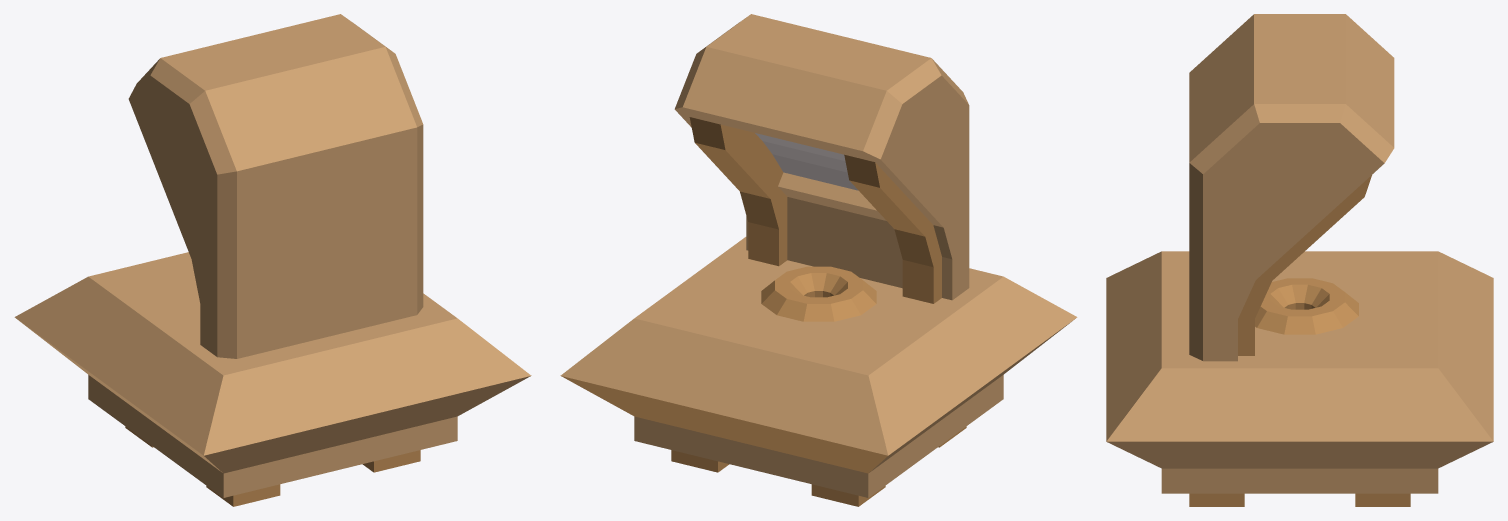
Rendered from Puzzle_Sliding_Emitter.fbx.
3 views of the same model, side by side, from view 1: azimuth 30°, elevation 25°; view 2: azimuth 150°, elevation 25°; view 3: azimuth 270°, elevation 25° (orthographic). The views are drawn at different scales.
Parts seen in each view (by area): view 1: Sandstone_5.Sandstone_5.Sandstone_5.object1, Sandstone_5.Sandstone_5.Sandstone_5.Sandstone_5, Sandstone_6.Sandstone_6.Sandstone_6.Sandstone_6.object2; view 2: Sandstone_5.Sandstone_5.Sandstone_5.Sandstone_5, Sandstone_5.Sandstone_5.Sandstone_5.object1, Sandstone_6.Sandstone_6, Sandstone_6.Sandstone_6.Sandstone_6.Sandstone_6.object2, object3, Gray; view 3: Sandstone_5.Sandstone_5.Sandstone_5.Sandstone_5, Sandstone_5.Sandstone_5.Sandstone_5.object1, object3, Sandstone_6.Sandstone_6, Sandstone_6.Sandstone_6.Sandstone_6.Sandstone_6.object2.
Boxes of the visible parts, left/top/right/bottom form: Sandstone_5.Sandstone_5.Sandstone_5.object1: left=128, top=14, right=423, bottom=358; Sandstone_5.Sandstone_5.Sandstone_5.Sandstone_5: left=14, top=252, right=531, bottom=497; Sandstone_6.Sandstone_6.Sandstone_6.Sandstone_6.object2: left=125, top=426, right=420, bottom=506; Sandstone_5.Sandstone_5.Sandstone_5.Sandstone_5: left=560, top=237, right=1077, bottom=497; Sandstone_5.Sandstone_5.Sandstone_5.object1: left=674, top=14, right=969, bottom=300; Sandstone_6.Sandstone_6: left=689, top=117, right=941, bottom=303; Sandstone_6.Sandstone_6.Sandstone_6.Sandstone_6.object2: left=561, top=376, right=966, bottom=506; object3: left=761, top=266, right=876, bottom=321; Gray: left=755, top=133, right=858, bottom=190; Sandstone_5.Sandstone_5.Sandstone_5.Sandstone_5: left=1106, top=251, right=1493, bottom=493; Sandstone_5.Sandstone_5.Sandstone_5.object1: left=1189, top=14, right=1394, bottom=361; object3: left=1255, top=278, right=1358, bottom=334; Sandstone_6.Sandstone_6: left=1238, top=175, right=1371, bottom=355; Sandstone_6.Sandstone_6.Sandstone_6.Sandstone_6.object2: left=1189, top=493, right=1410, bottom=506.
Bounding box in the file's own units: 0.7 × 0.8 × 0.7.
